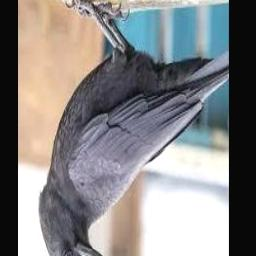Crow: (38, 0, 229, 256)
